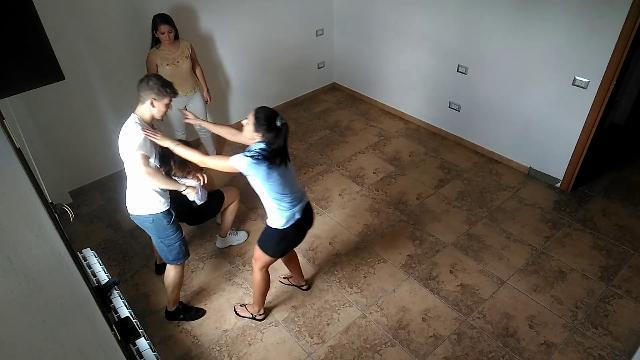non-violence: (146, 3, 220, 183)
violence: (118, 74, 316, 324)
